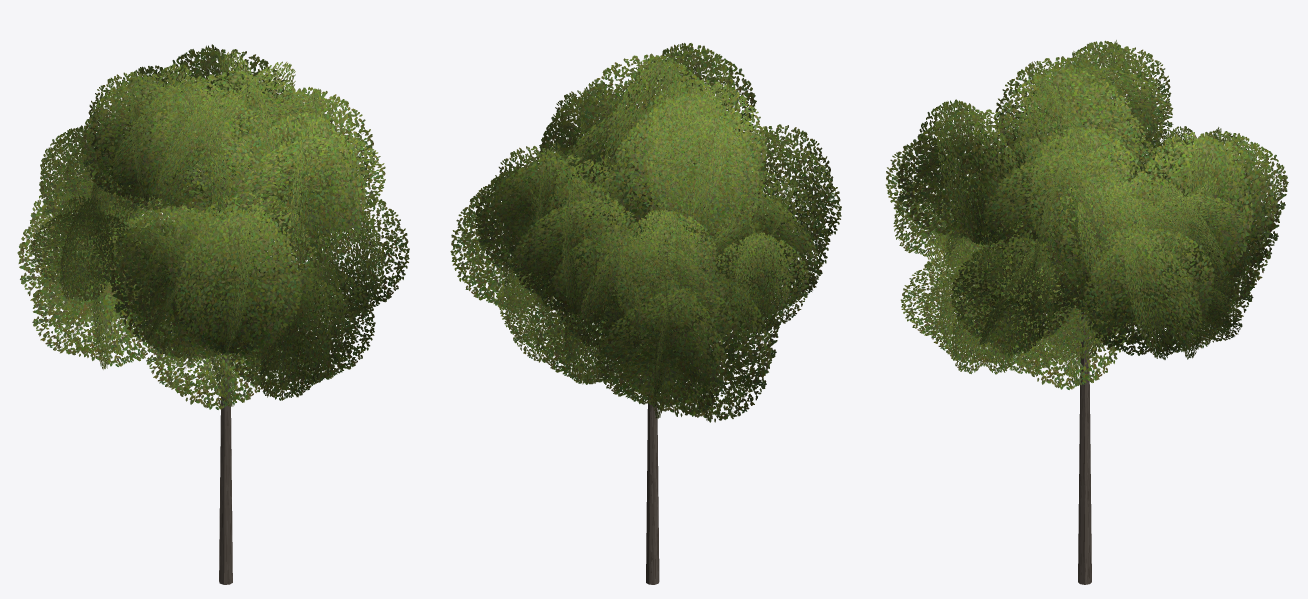
File: tree_honeylocust_lifted_lod1.glb
3 renders of one model, left to right at view 1: azimuth 30°, elevation 25°; view 2: azimuth 150°, elevation 25°; view 3: azimuth 270°, elevation 25°, orthographic. The views are drawn at different scales.
Visible parts, largest first — view 1: tree_honeylocust_lifted_crown, tree_honeylocust_lifted_trunk-col; view 2: tree_honeylocust_lifted_crown, tree_honeylocust_lifted_trunk-col; view 3: tree_honeylocust_lifted_crown, tree_honeylocust_lifted_trunk-col.
Boxes of the visible parts, x1,y1,x2,y2 form: tree_honeylocust_lifted_crown: [17, 44, 409, 409]; tree_honeylocust_lifted_trunk-col: [219, 168, 232, 584]; tree_honeylocust_lifted_crown: [450, 43, 841, 422]; tree_honeylocust_lifted_trunk-col: [646, 192, 659, 584]; tree_honeylocust_lifted_crown: [885, 40, 1288, 389]; tree_honeylocust_lifted_trunk-col: [1078, 278, 1091, 584].
Size of the model in its own units: 9.31 by 13.47 by 9.79.
Materials: 2 (2 with a texture image).
